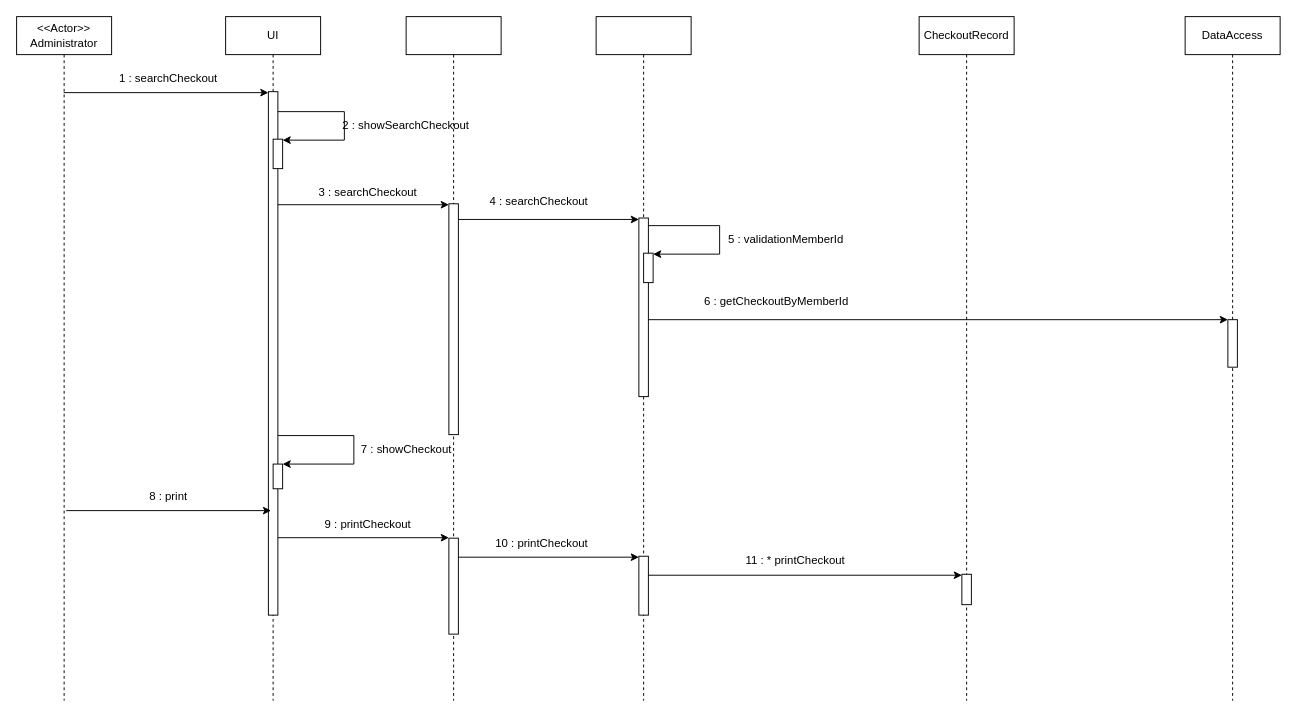
The diagram is 1297 pixels wide and 717 high, and some of its shapes have lost their labels. Each missing label, with the box of its shape:
LibrayMember: (595, 16, 691, 701)
SystemController: (405, 16, 501, 701)
